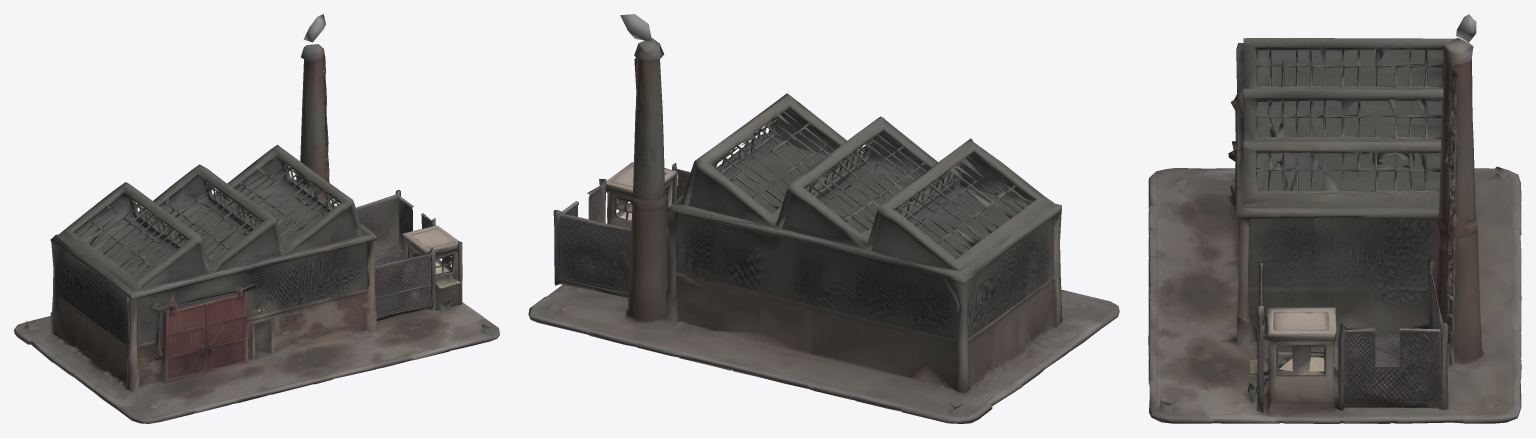
File: factory_gate_main.glb
The picture shows the model from 3 angles, left to right: view 1: azimuth 30°, elevation 25°; view 2: azimuth 150°, elevation 25°; view 3: azimuth 270°, elevation 25°; orthographic projection. The views are drawn at different scales.
Visible parts, largest first — view 1: tripo_node_6724c10c-2798-47fe-b4ff-2bf69b040570; view 2: tripo_node_6724c10c-2798-47fe-b4ff-2bf69b040570; view 3: tripo_node_6724c10c-2798-47fe-b4ff-2bf69b040570.
Part boxes in pixels (box(x1,y1,x2,y2)): tripo_node_6724c10c-2798-47fe-b4ff-2bf69b040570: box(14, 14, 499, 423); tripo_node_6724c10c-2798-47fe-b4ff-2bf69b040570: box(528, 14, 1119, 423); tripo_node_6724c10c-2798-47fe-b4ff-2bf69b040570: box(1148, 14, 1521, 423).
Size of the model in its own units: 1 by 0.6666 by 0.6276.
1 material, 1 textured.
